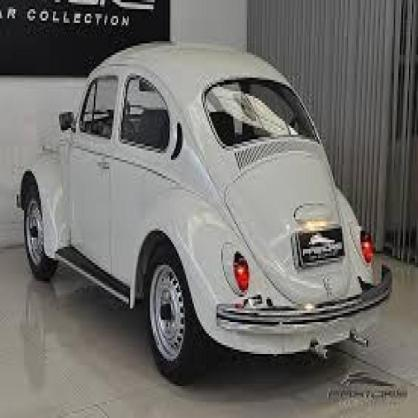car: (21, 39, 394, 388)
